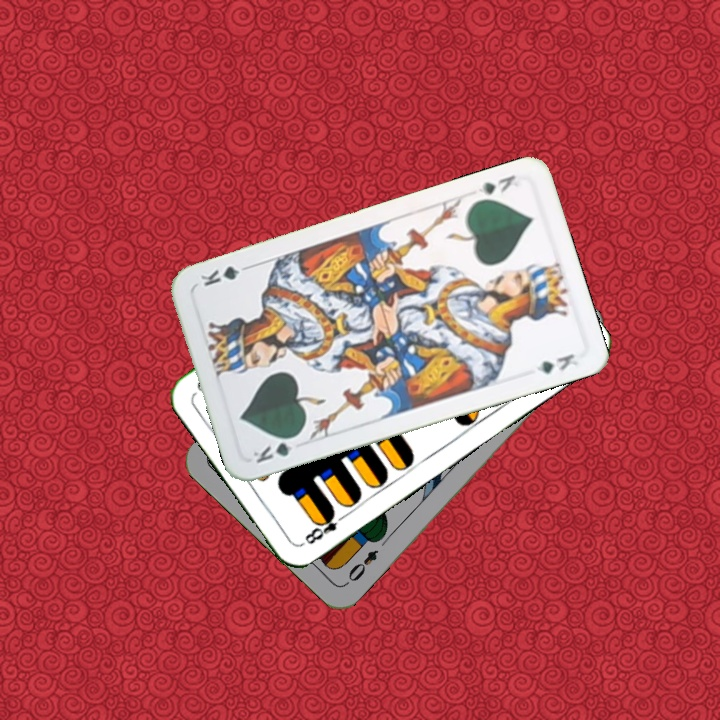E8: (298, 506, 350, 548)
EO: (341, 545, 381, 588)
GK: (248, 431, 302, 466), (474, 171, 518, 197)
